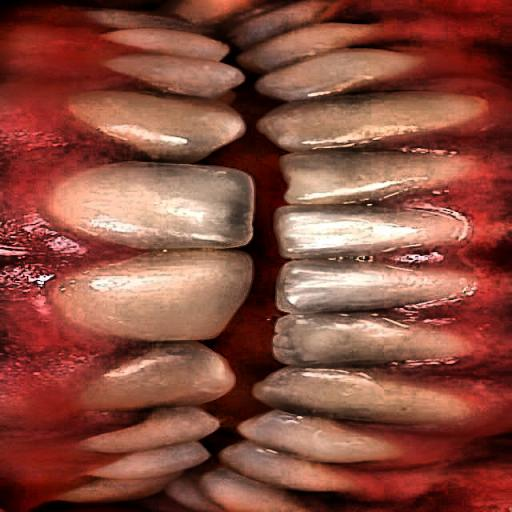Healthy: (83, 4, 406, 447)
